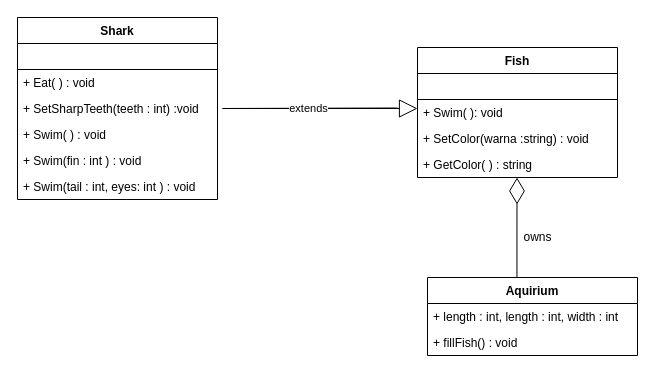
Some shapes in this 655 by 376 pixel diagram are drawn without their labels. The centre of each missing label's shape, as x and y in pixels:
- color : string = "blue": point 517,86
- sharpTeeth : int =50: point 117,56
